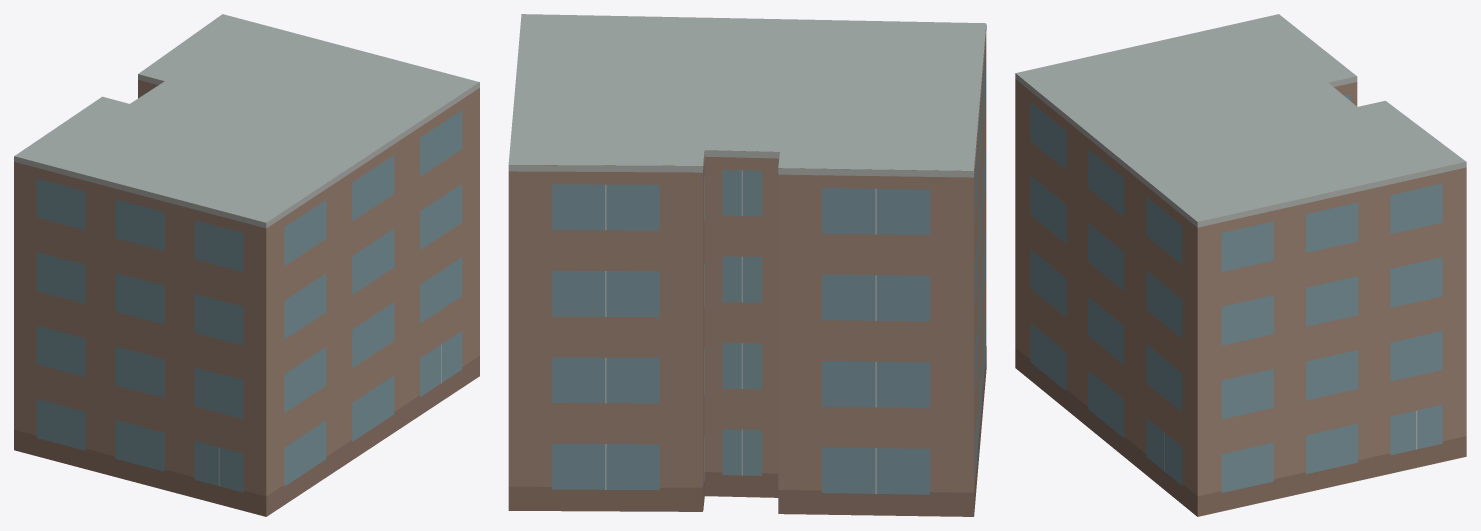
File: survey-upis-32746784.glb
3 views of the same model, side by side, from view 1: azimuth 30°, elevation 25°; view 2: azimuth 150°, elevation 25°; view 3: azimuth 270°, elevation 25° (orthographic). The views are drawn at different scales.
Parts seen in each view (by area): view 1: survey-upis-32746784.tmp; view 2: survey-upis-32746784.tmp; view 3: survey-upis-32746784.tmp.
Boxes of the visible parts, box(x1,y1,x2,y2) form: survey-upis-32746784.tmp: box(14, 14, 479, 516); survey-upis-32746784.tmp: box(508, 14, 986, 516); survey-upis-32746784.tmp: box(1015, 14, 1466, 516).
Bounding box in the file's own units: 19.38 × 12.8 × 17.76.
